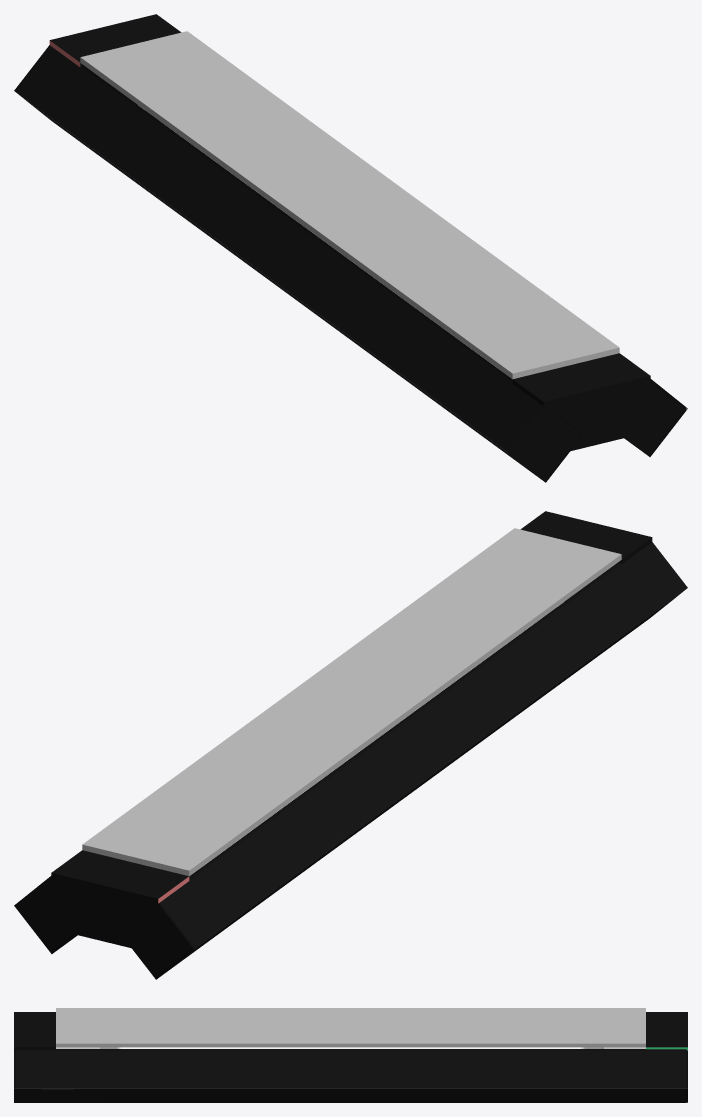
Rendered from ceiling lamp.fbx.
The picture shows the model from 3 angles, top to bottom: view 1: azimuth 30°, elevation 25°; view 2: azimuth 150°, elevation 25°; view 3: azimuth 270°, elevation 25°; orthographic projection. The views are drawn at different scales.
Visible parts, largest first — view 1: cube_5, cube, cube_2, cube_3, cube_1; view 2: cube_5, cube, cube_3, cube_1, cube_2; view 3: cube_1, cube_5, cube_2, cube_3, cube_4.
Part boxes in pixels (x1,y1,x2,y2): cube_5: [80, 31, 619, 378]; cube: [14, 45, 581, 482]; cube_2: [512, 353, 650, 457]; cube_3: [49, 14, 181, 103]; cube_1: [613, 378, 687, 456]; cube_5: [82, 528, 621, 875]; cube: [118, 542, 687, 979]; cube_3: [51, 850, 189, 953]; cube_1: [14, 875, 88, 953]; cube_2: [520, 511, 652, 600]; cube_1: [14, 1049, 687, 1102]; cube_5: [56, 1008, 645, 1047]; cube_2: [14, 1012, 55, 1050]; cube_3: [646, 1012, 687, 1050]; cube_4: [98, 1047, 603, 1048].
Size of the model in its own units: 21.03 by 11.29 by 100.
Materials: 5 (5 with a texture image).
